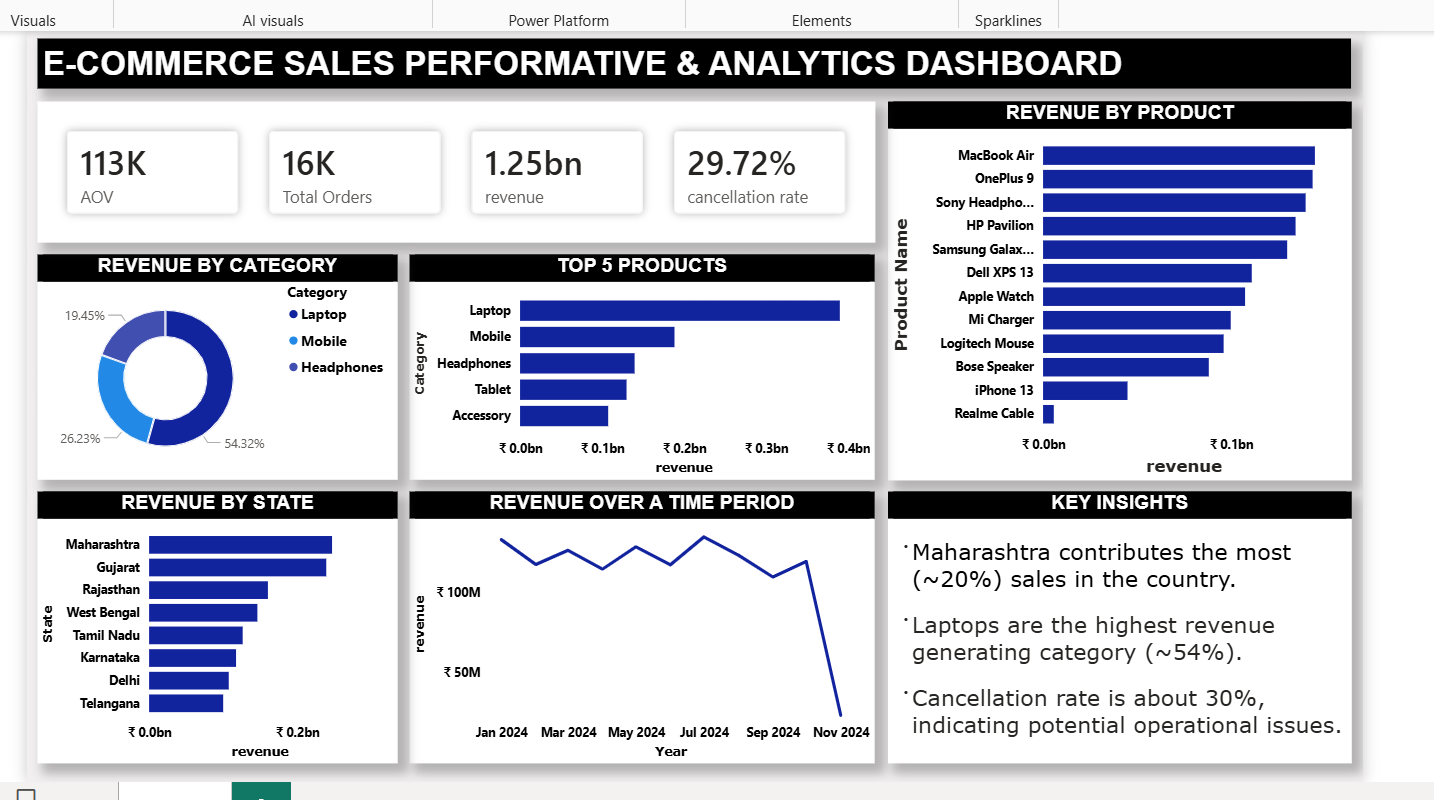

The dashboard page shown, as its layout file describes it:
{"tool":"powerbi","page":{"name":"Page 1","canvas":[1280,720],"ordinal":0},"visuals":[{"type":"textbox","box":[10.2,7.3,1259.6,48.1],"z":0},{"type":"clusteredBarChart","title":"REVENUE BY PRODUCT","fields":{"Category":["products.Product Name"],"Y":["Table.revenue"]},"box":[825.1,67.1,444.6,363],"z":1000},{"type":"clusteredBarChart","title":"TOP 5 PRODUCTS","fields":{"Category":["products.Category"],"Y":["Table.revenue"]},"box":[367.4,214.3,446.1,215.8],"z":2000},{"type":"donutChart","title":"REVENUE BY CATEGORY","fields":{"Y":["Table.revenue"],"Category":["products.Category"]},"box":[10.2,214.3,345.5,215.8],"z":3000},{"type":"lineChart","title":"REVENUE OVER A TIME PERIOD","fields":{"Y":["Table.revenue"],"Category":["orders.Date and time of purchase.Variation.Date Hierarchy.Year","orders.Date and time of purchase.Variation.Date Hierarchy.Quarter","orders.Date and time of purchase.Variation.Date Hierarchy.Month"]},"box":[367.4,441.7,446.1,261],"z":4000},{"type":"barChart","title":"REVENUE BY STATE","fields":{"Category":["customers.State"],"Y":["Table.revenue"]},"box":[10.2,441.7,345.5,261],"z":6000},{"type":"cardVisual","fields":{"Data":["Table.AOV","Table.Total Orders","Table.revenue","Table.cancellation rate"]},"box":[10.2,67.1,803.3,135.6],"z":7000},{"type":"textbox","title":"KEY INSIGHTS","box":[825.1,441.7,444.6,261],"z":7001}]}

Visuals, with their boxes on the page's 1280x720 design canvas (x1, y1, x2, y2). These are canvas units, not pixel positions in the 1434x800 screenshot, which may show the page scaled, cropped or inside an application window:
textbox: box=[10, 7, 1270, 55]
"REVENUE BY PRODUCT" clusteredBarChart: box=[825, 67, 1270, 430]
"TOP 5 PRODUCTS" clusteredBarChart: box=[367, 214, 814, 430]
"REVENUE BY CATEGORY" donutChart: box=[10, 214, 356, 430]
"REVENUE OVER A TIME PERIOD" lineChart: box=[367, 442, 814, 703]
"REVENUE BY STATE" barChart: box=[10, 442, 356, 703]
cardVisual - Table.AOV x Table.Total Orders: box=[10, 67, 814, 203]
"KEY INSIGHTS" textbox: box=[825, 442, 1270, 703]
